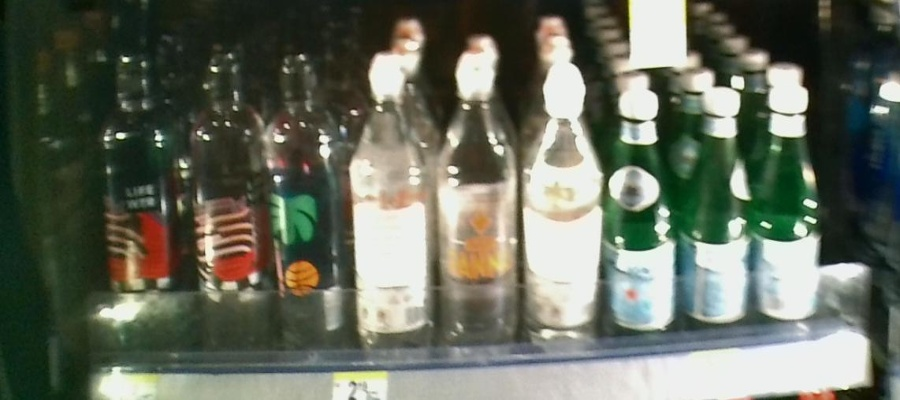bottle: (188, 57, 270, 378), (438, 40, 519, 355), (354, 46, 432, 370), (101, 43, 180, 361), (272, 56, 349, 380), (523, 57, 604, 344), (761, 66, 826, 341), (685, 88, 754, 340), (612, 87, 678, 343)
